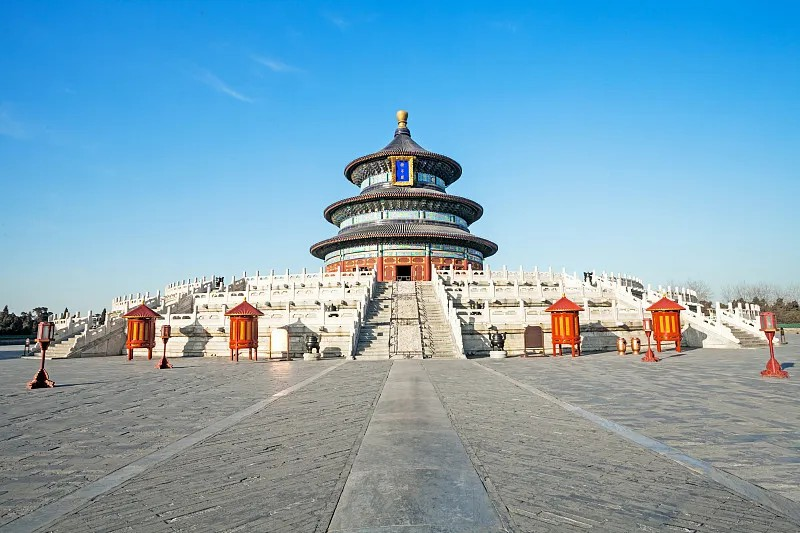Heaven: (310, 109, 498, 282)
